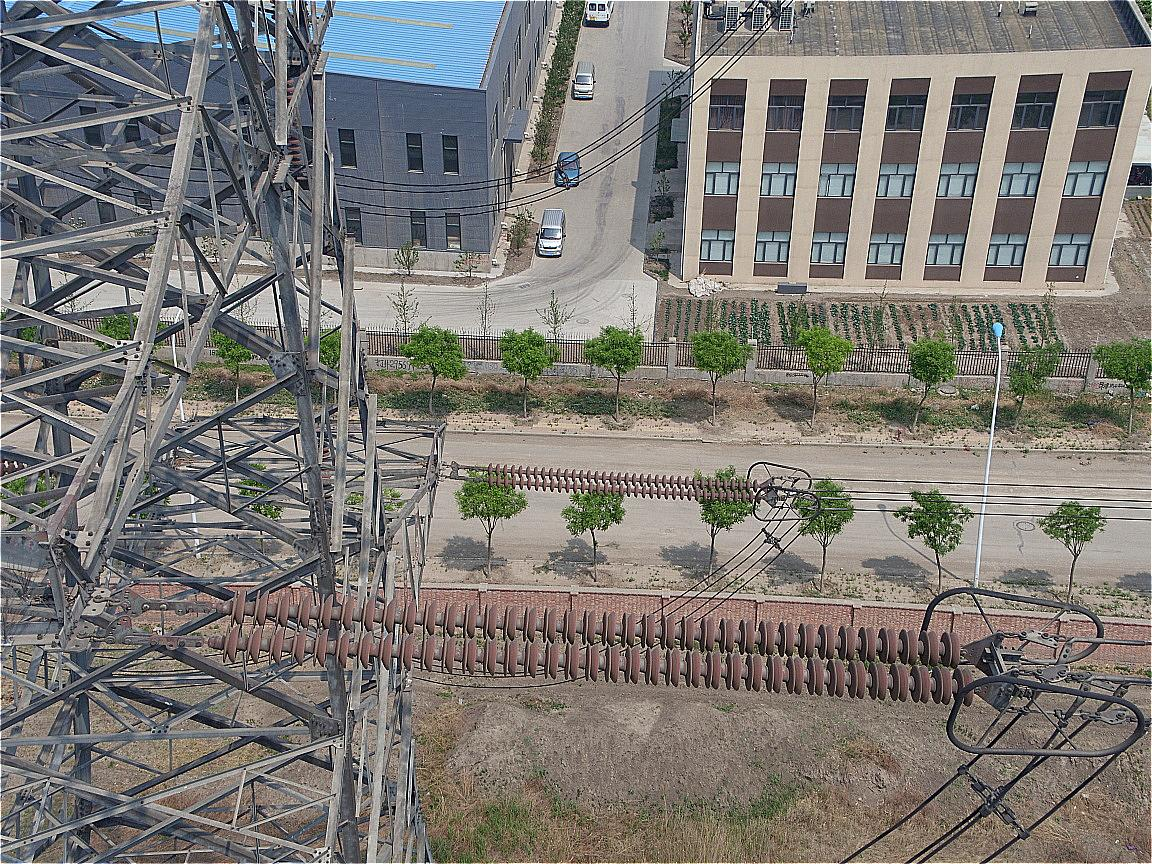insultor1: (488, 462, 763, 502)
insultor2: (222, 590, 975, 703)
